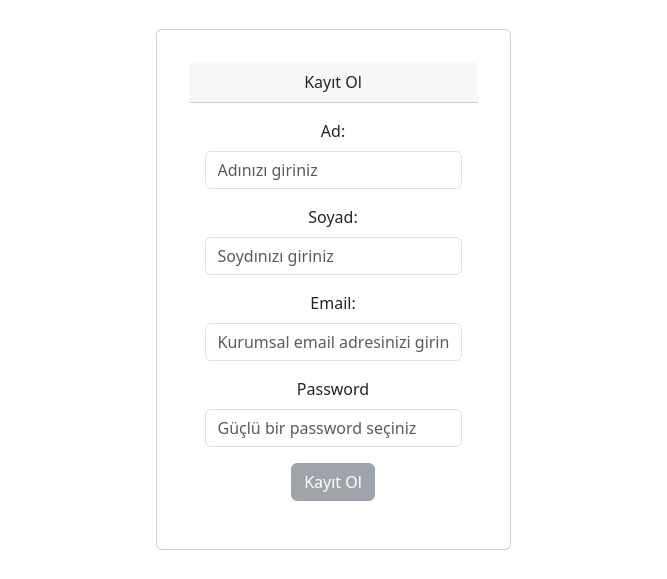
Test: Register Page › Error Messeges › Password input throws error for 1234
The image size is (667, 579).
Type "1234" into the password field with test id "password-input" at (334, 428), box [205,409,462,447]
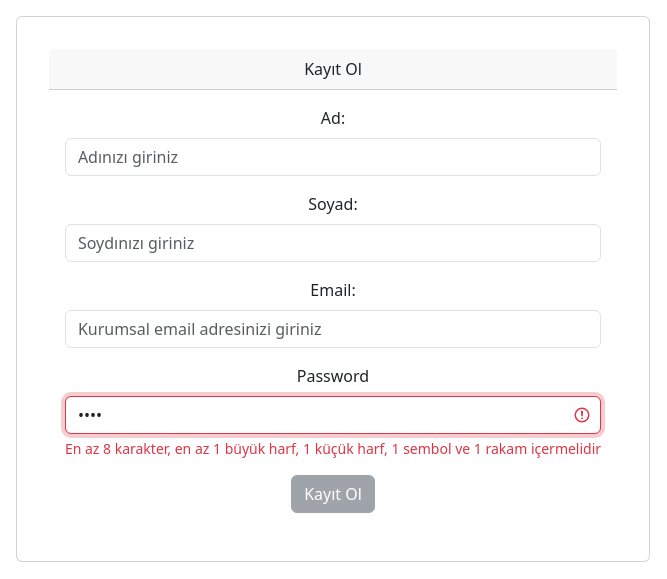
Expected: the text "En az 8 karakter, en az 1 büyük harf, 1 küçük harf, 1 sembol ve 1 rakam içermelidir" is shown, [65,439,601,458]
